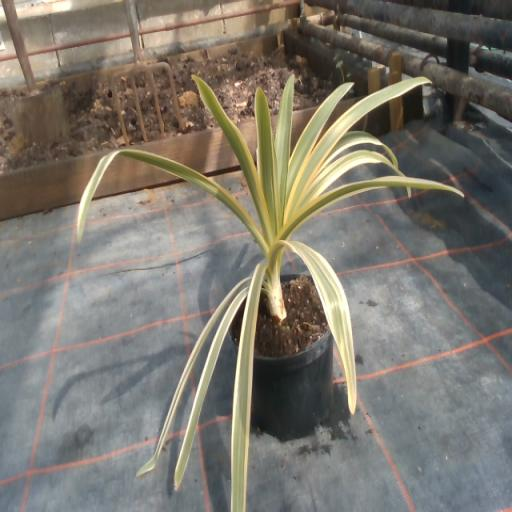Agapanthus-praecox: (137, 277, 248, 476), (286, 77, 426, 219), (77, 148, 242, 241), (174, 289, 247, 487), (279, 242, 356, 412), (193, 76, 272, 240), (279, 178, 462, 239), (231, 263, 264, 511), (286, 84, 348, 197), (306, 150, 405, 199), (314, 131, 397, 181), (256, 90, 277, 234), (275, 76, 292, 220), (244, 210, 255, 234)
